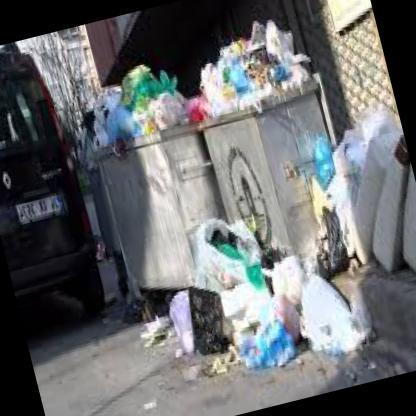Garbage: (171, 274, 332, 404), (181, 10, 321, 122), (189, 208, 281, 374), (280, 275, 386, 396), (296, 128, 366, 292), (81, 58, 196, 146), (290, 206, 356, 296), (258, 231, 307, 314), (136, 298, 184, 374), (257, 19, 304, 67), (138, 81, 180, 131), (190, 62, 226, 105)
